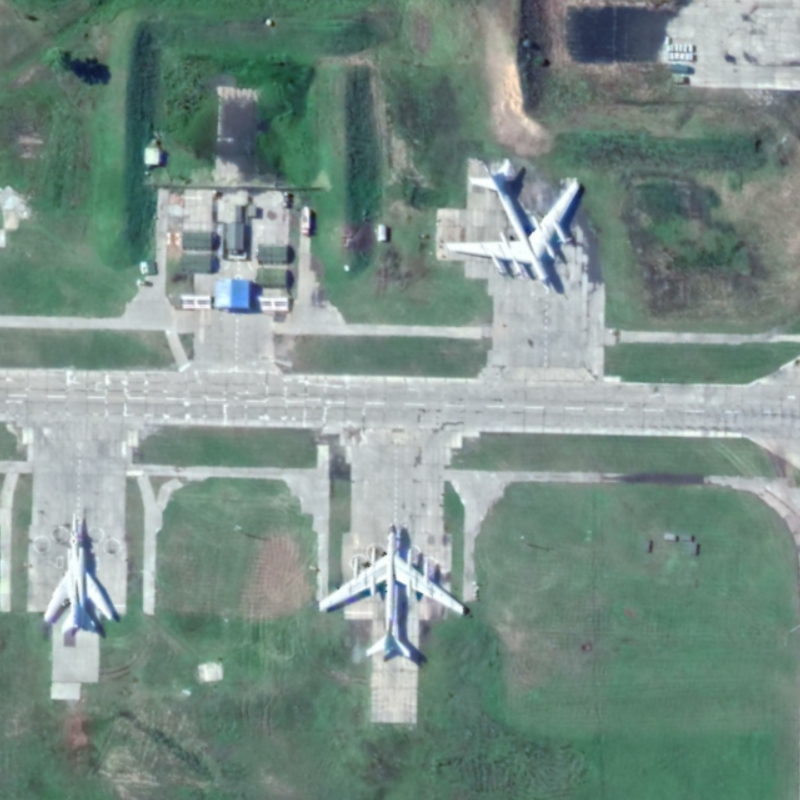A12: (41, 511, 115, 637)
A17: (317, 522, 467, 660), (442, 155, 582, 292)
